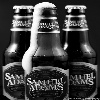beer: (6, 3, 41, 100)
